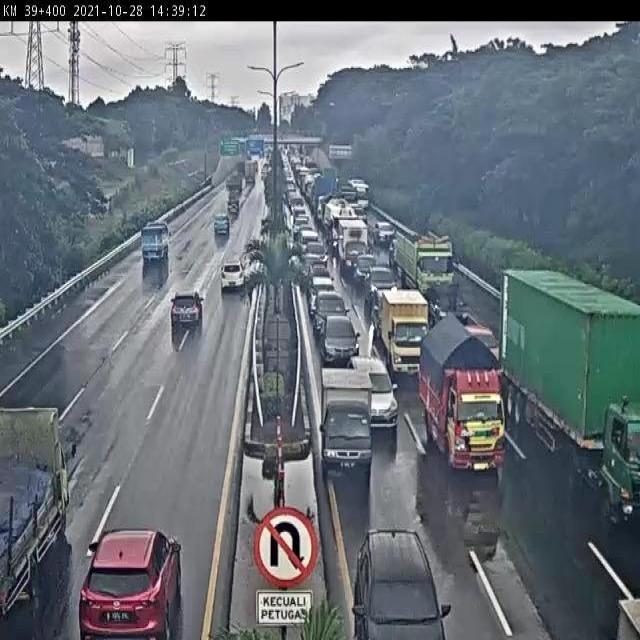big truck: (505, 271, 640, 536), (396, 233, 458, 324)
car: (64, 524, 185, 639), (349, 525, 446, 639), (349, 352, 402, 431), (312, 292, 352, 343), (323, 312, 358, 357), (367, 267, 401, 308), (168, 291, 206, 325), (220, 256, 249, 295), (313, 276, 345, 303), (359, 255, 376, 281), (213, 214, 230, 238)
small truck: (0, 397, 69, 624), (423, 319, 503, 468), (318, 361, 376, 476), (383, 290, 431, 378), (140, 217, 170, 264)
